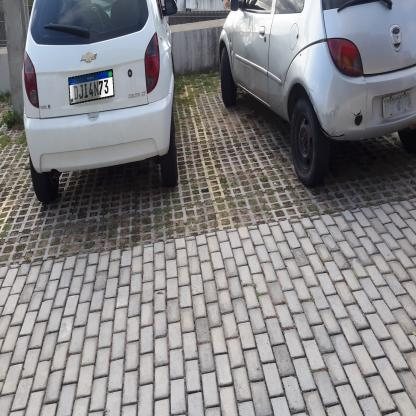PlacaM: (68, 69, 115, 105)
